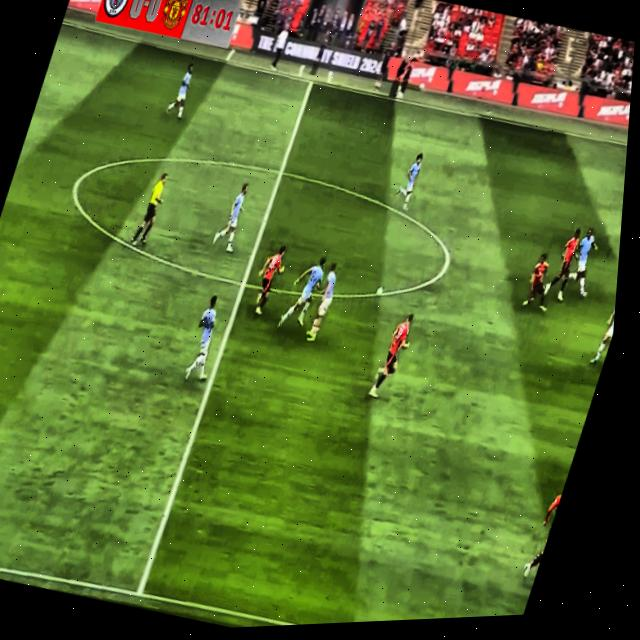ball: (371, 280, 388, 308)
players: (363, 298, 424, 413), (177, 285, 238, 386), (273, 241, 333, 341), (241, 234, 298, 329), (537, 216, 592, 307), (205, 173, 258, 264), (297, 262, 346, 351), (561, 219, 612, 301), (521, 483, 564, 580), (513, 244, 564, 321), (386, 145, 429, 220), (160, 57, 204, 129), (589, 285, 617, 366)
refree: (124, 160, 181, 253)
